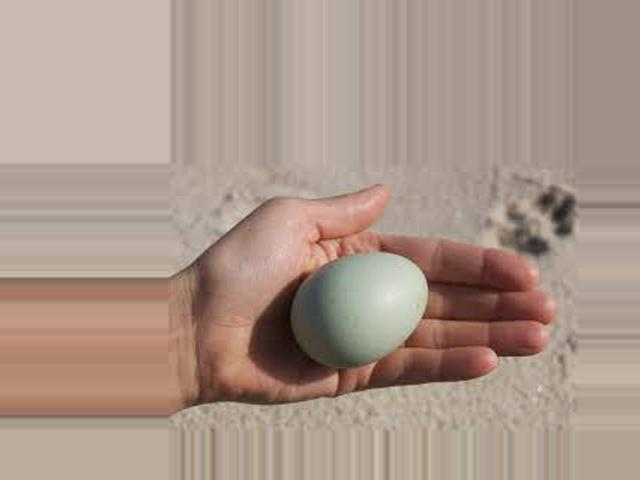egg: (293, 253, 430, 367)
